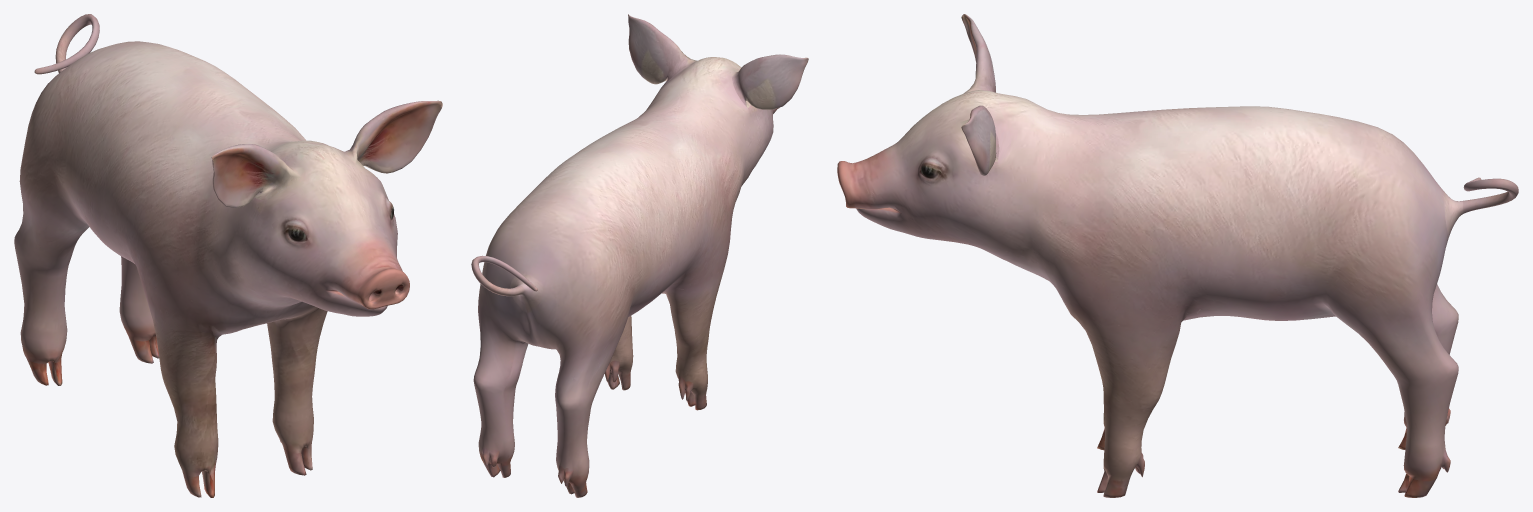
File: buta.glb
3 views of the same model, side by side, from view 1: azimuth 30°, elevation 25°; view 2: azimuth 150°, elevation 25°; view 3: azimuth 270°, elevation 25° (orthographic). The views are drawn at different scales.
Visible parts, largest first — view 1: Object_61; view 2: Object_61; view 3: Object_61.
Part boxes in pixels (x1,y1,x2,y2): Object_61: (14,14,442,497); Object_61: (471,14,808,497); Object_61: (837,14,1518,497).
Bounding box in the file's own units: 1.54 × 2.61 × 4.
Materials: 1 (1 with a texture image).
